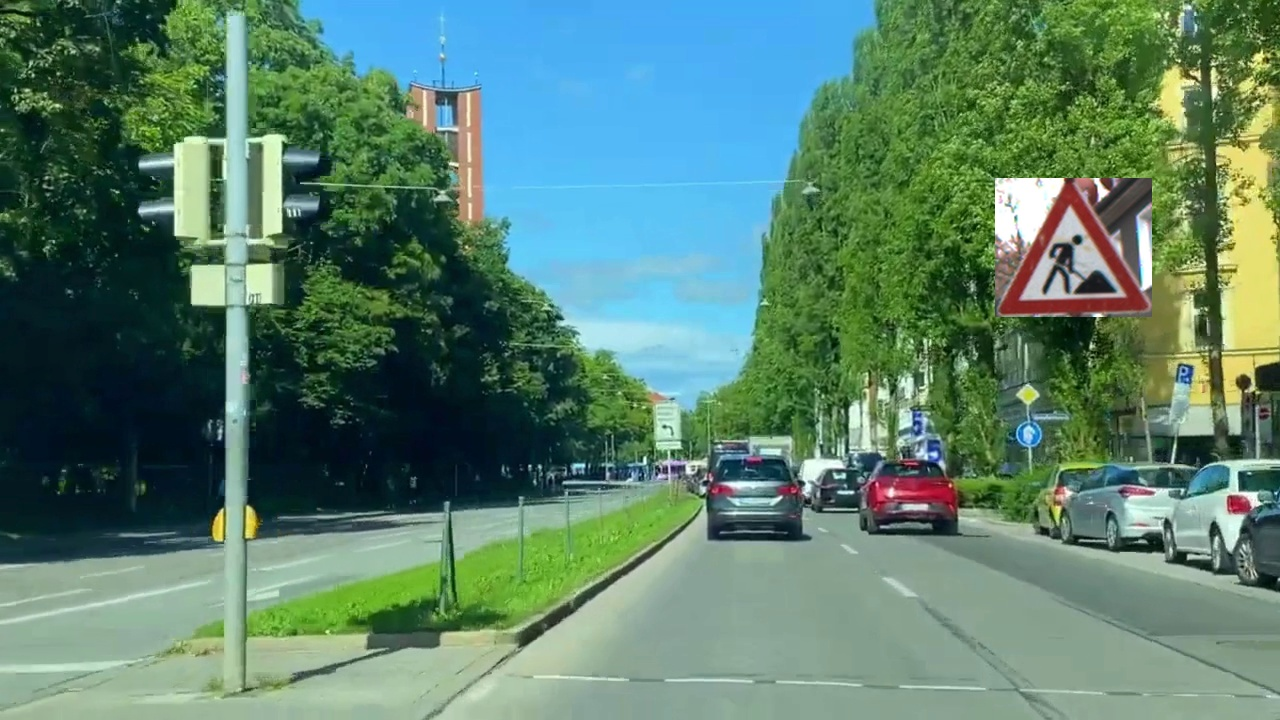Road work: (995, 178, 1152, 317)
